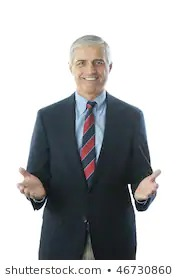F_M_suit jacket: (22, 88, 159, 261)
